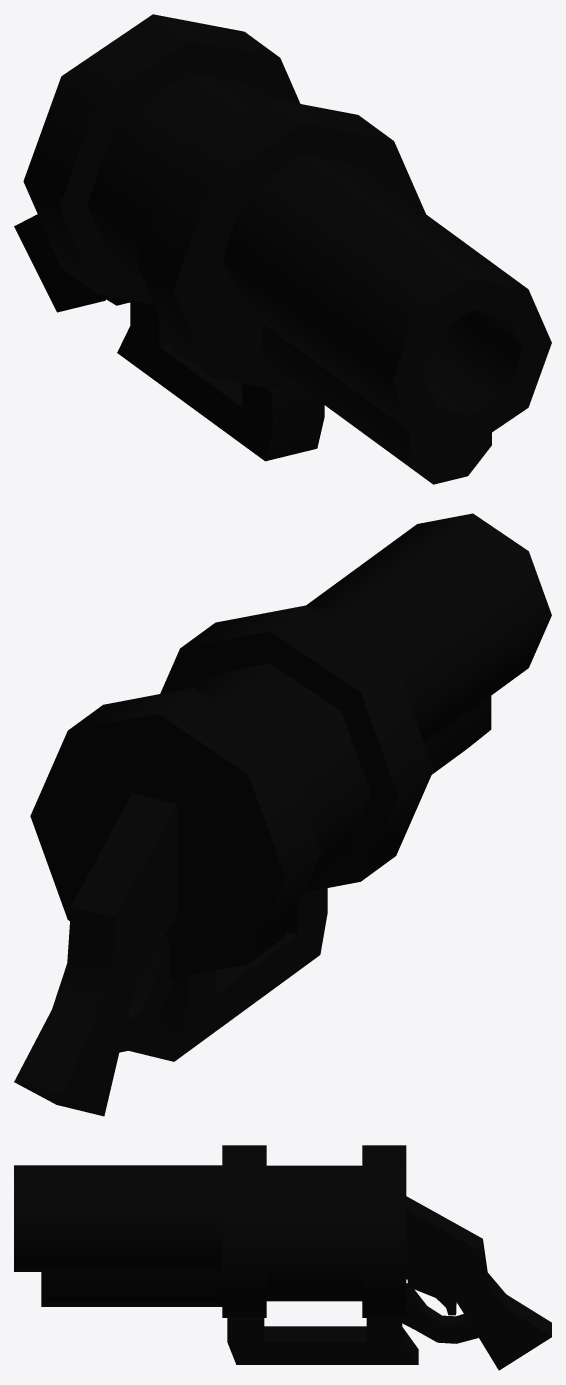
The model's file is Grenade_launcher.fbx.
3 views of the same model, one above another, from view 1: azimuth 30°, elevation 25°; view 2: azimuth 150°, elevation 25°; view 3: azimuth 270°, elevation 25° (orthographic). The views are drawn at different scales.
Visible parts, largest first — view 1: Grenade_launcher; view 2: Grenade_launcher; view 3: Grenade_launcher.
Boxes of the visible parts, x1=… form: Grenade_launcher: x1=14, y1=14, x2=551, y2=484; Grenade_launcher: x1=14, y1=513, x2=551, y2=1116; Grenade_launcher: x1=14, y1=1145, x2=551, y2=1370.
Size of the model in its own units: 137 by 176 by 400.
